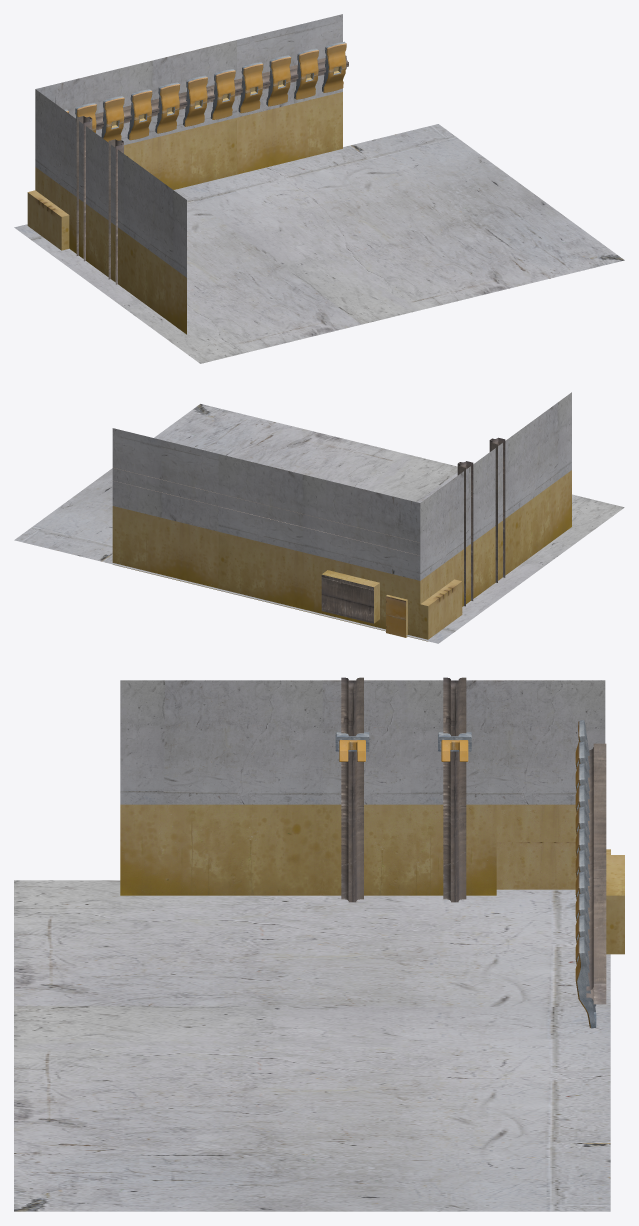
The model's file is factory9.fbx.
3 views of the same model, one above another, from view 1: azimuth 30°, elevation 25°; view 2: azimuth 150°, elevation 25°; view 3: azimuth 270°, elevation 25° (orthographic). The views are drawn at different scales.
Parts seen in each view (by area): view 1: walls, satellitebrace, satellite4, satellite11, satellite5, satellite9, satellite6, satellite10, satellite7, satellite8, pillar1, pillar2 (+1 smaller); view 2: walls, pillar2, pillar1, satellitebrace; view 3: walls, pillar1, satellitebrace, pillar2, bracket (×2), satellite11.
Boxes of the visible parts, box(x1,y1,x2,y2) form: walls: box(14, 14, 624, 363); satellitebrace: box(95, 55, 348, 130); satellite4: box(127, 89, 152, 140); satellite11: box(322, 41, 346, 92); satellite5: box(155, 82, 180, 133); satellite9: box(266, 55, 291, 106); satellite6: box(183, 75, 207, 126); satellite10: box(294, 48, 318, 99); satellite7: box(210, 69, 235, 119); satellite8: box(238, 62, 263, 113); pillar1: box(76, 116, 92, 261); pillar2: box(108, 139, 123, 284); walls: box(14, 392, 624, 643); pillar2: box(489, 437, 505, 582); pillar1: box(457, 461, 473, 606); satellitebrace: box(113, 467, 419, 555); walls: box(14, 680, 624, 1211); pillar1: box(443, 677, 466, 902); satellitebrace: box(586, 743, 606, 1004); pillar2: box(341, 677, 363, 902); bracket (×2): box(335, 732, 471, 761); satellite11: box(575, 937, 596, 1028).
Size of the model in its own units: 222 by 70.24 by 173.
Materials: 1 (1 with a texture image).
